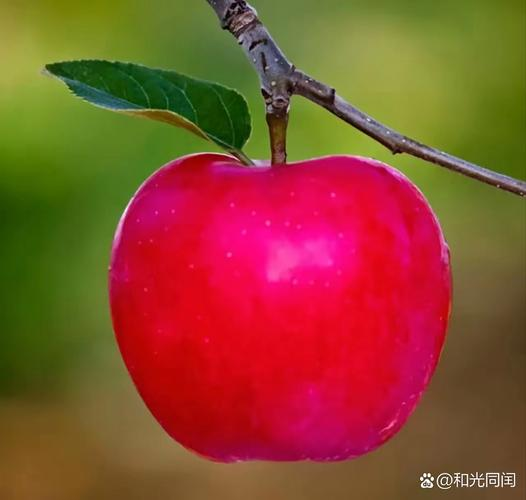ripe: (98, 144, 471, 480)
